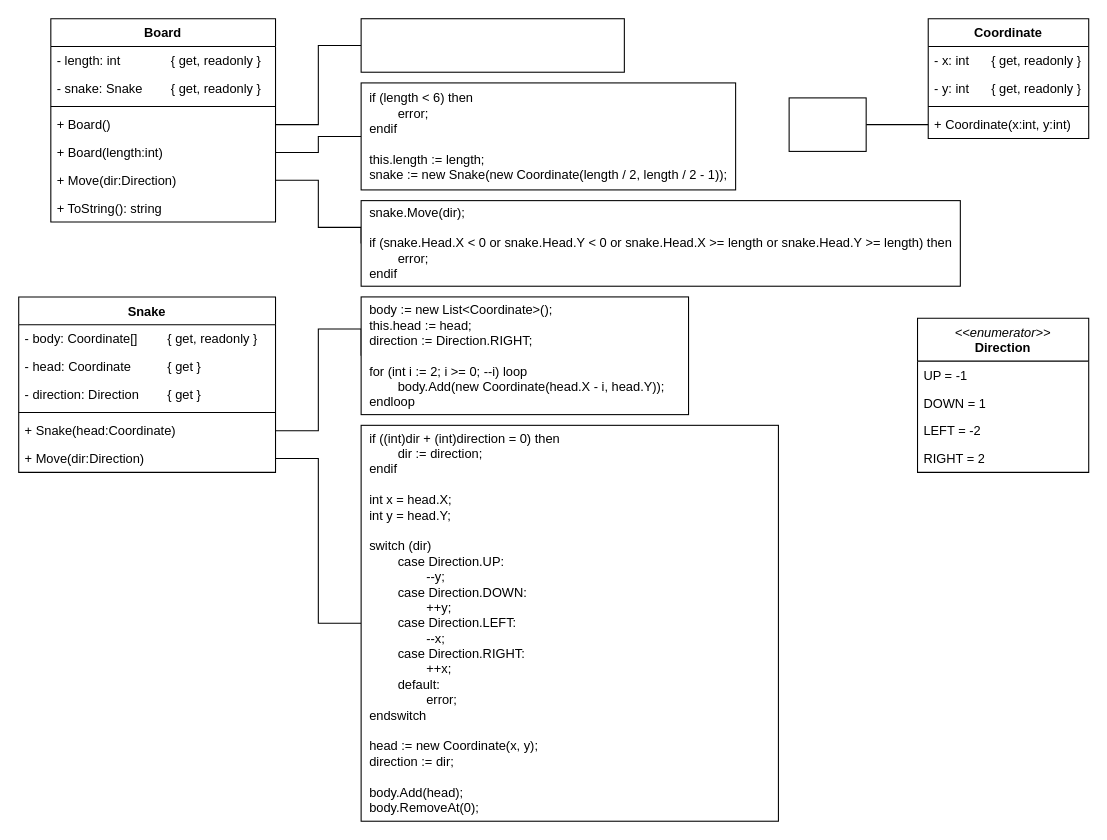
Some shapes in this 1107 by 840 pixel diagram are drawn without their labels. Each missing label, with the centre of its shape:
"length := 10; snake := new Snake(new Coordinate(5, 4));" belongs at point (492, 45).
"this.x := x; this.y := y;" belongs at point (827, 124).
